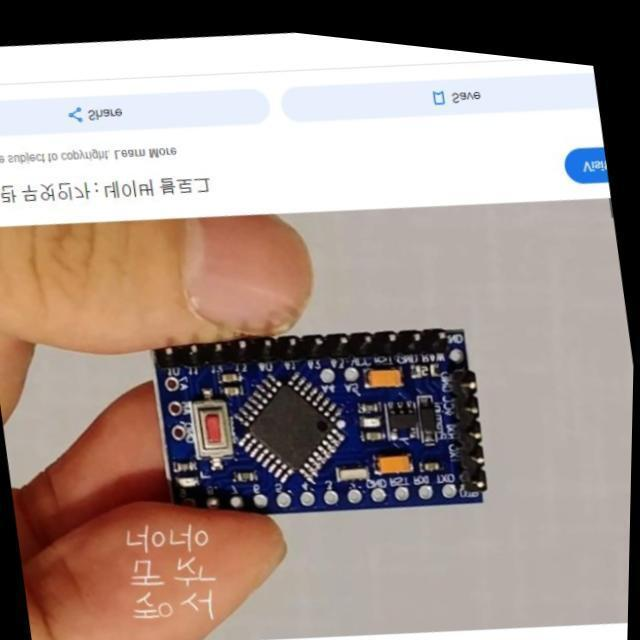Arduino-ProMini: (157, 330, 487, 515)
